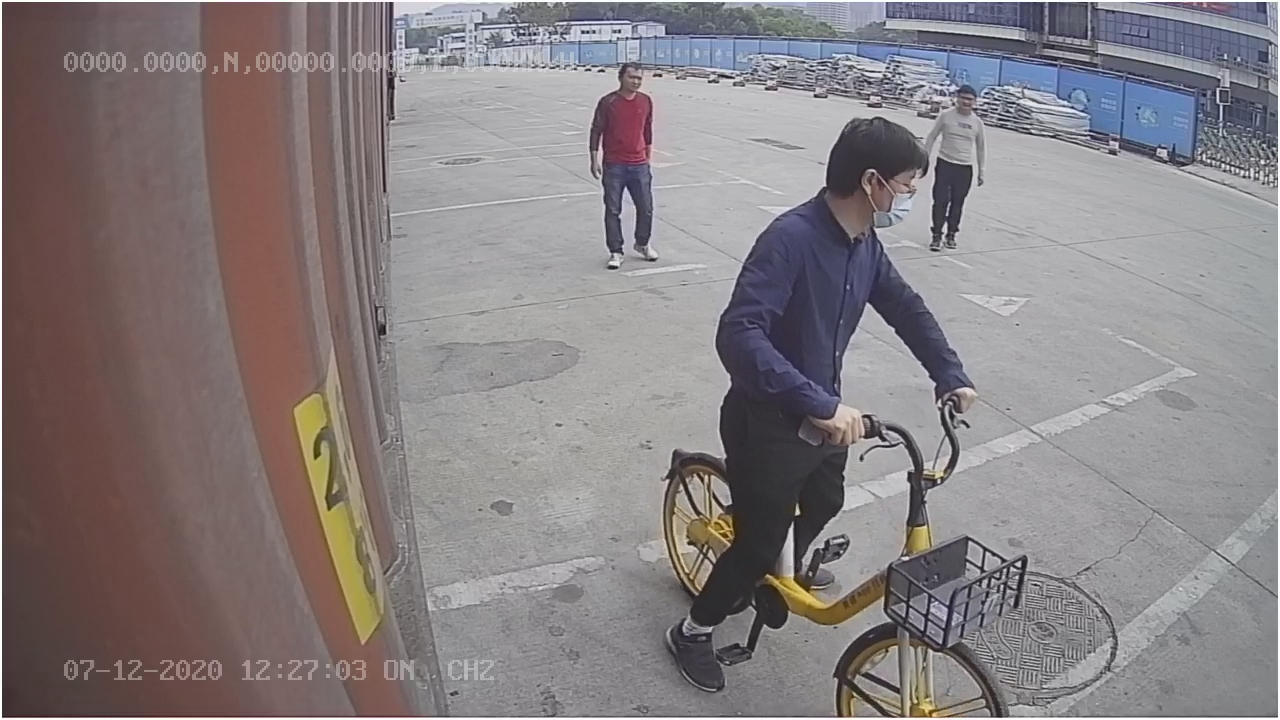person: (583, 58, 668, 269)
